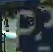Parking: (11, 5, 39, 49)
